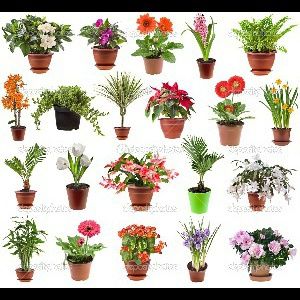flowerpot: (245, 44, 277, 76), (213, 117, 244, 148), (126, 182, 156, 211), (52, 104, 82, 132), (121, 253, 150, 281), (91, 44, 120, 71), (67, 252, 94, 281), (65, 182, 90, 211), (187, 185, 211, 214), (159, 114, 185, 140), (27, 50, 52, 74), (247, 259, 273, 282), (141, 52, 165, 76), (269, 126, 293, 149), (185, 259, 208, 282), (194, 56, 216, 79), (245, 191, 268, 213), (15, 188, 35, 208), (15, 266, 36, 284), (113, 124, 131, 139), (9, 124, 25, 140)
